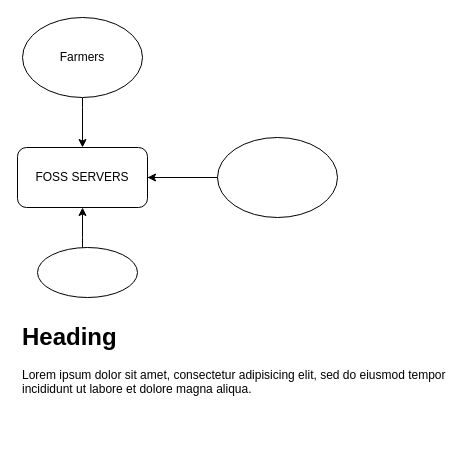
This 475x455 diagram has some shape labels left out. Each missing label, with the centre of its shape:
Admin User: the point at 87,272
Customers: the point at 277,177
